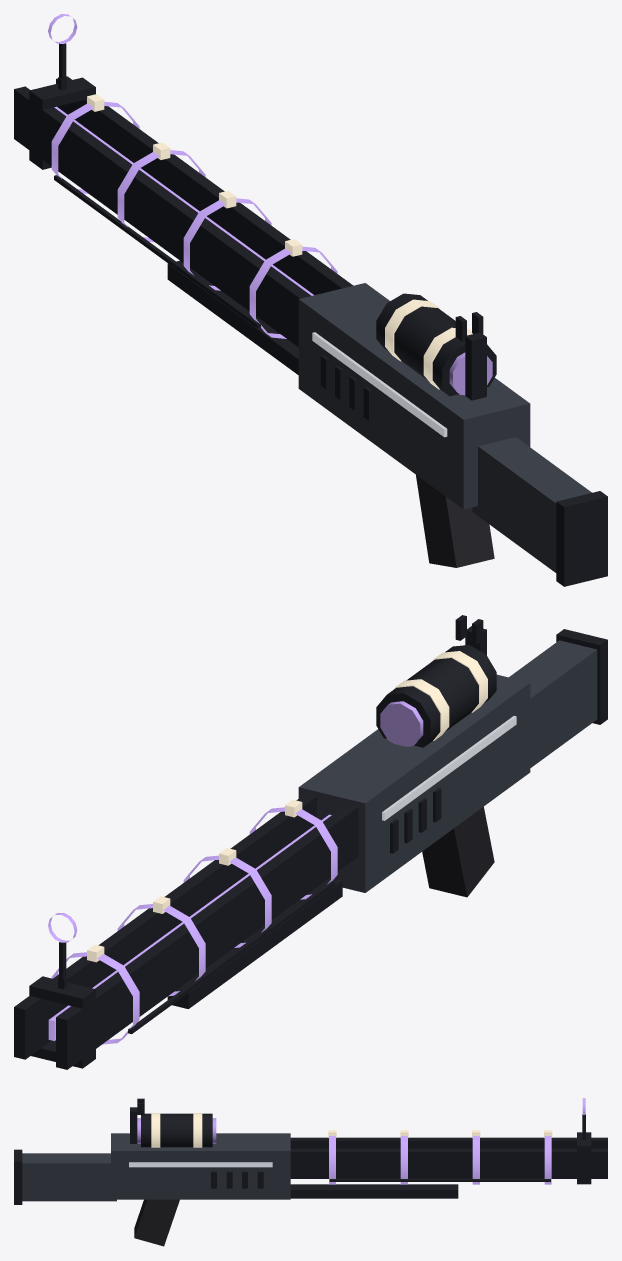
The model's file is BO_SK_Weapon_Railgun_v001.glb.
3 renders of one model, top to bottom at view 1: azimuth 30°, elevation 25°; view 2: azimuth 150°, elevation 25°; view 3: azimuth 270°, elevation 25°, orthographic. The views are drawn at different scales.
Parts seen in each view (by area): view 1: body_000, body_010, body_009, body_029, body_030, body_024, body_031, body_043, body_022, glowfx_042, body_035, body_012 (+6 smaller); view 2: body_000, body_010, body_009, body_029, body_024, body_031, body_043, body_022, body_028, glowfx_042, body_030, body_012 (+7 smaller); view 3: body_000, body_009, body_029, body_010, body_043, body_024, body_031, glowfx_041, body_023, body_030, glowfx_014, glowfx_016 (+6 smaller).
Boxes of the visible parts, x1,y1,x2,y2 form: body_000: [298, 283, 530, 509]; body_010: [14, 86, 311, 346]; body_009: [56, 76, 353, 295]; body_029: [472, 437, 591, 572]; body_030: [556, 491, 607, 586]; body_024: [376, 293, 496, 396]; body_031: [416, 475, 494, 567]; body_043: [167, 260, 298, 374]; body_022: [54, 175, 260, 328]; glowfx_042: [312, 332, 447, 437]; body_035: [465, 332, 486, 400]; body_012: [29, 77, 95, 109]; body_000: [298, 674, 530, 892]; body_010: [56, 804, 358, 1069]; body_009: [14, 794, 316, 1059]; body_029: [509, 640, 597, 767]; body_024: [376, 645, 496, 747]; body_031: [422, 806, 494, 897]; body_043: [167, 877, 342, 1008]; body_022: [128, 880, 335, 1033]; body_028: [380, 701, 423, 746]; glowfx_042: [382, 716, 516, 820]; body_030: [556, 629, 607, 724]; body_012: [29, 976, 95, 1008]; body_000: [111, 1133, 290, 1199]; body_009: [290, 1148, 607, 1178]; body_029: [22, 1153, 116, 1201]; body_010: [290, 1137, 607, 1148]; body_043: [290, 1184, 458, 1198]; body_024: [141, 1113, 212, 1147]; body_031: [134, 1199, 179, 1246]; glowfx_041: [129, 1162, 272, 1167]; body_023: [329, 1178, 550, 1181]; body_030: [14, 1149, 22, 1204]; glowfx_014: [544, 1136, 551, 1184]; glowfx_016: [472, 1136, 479, 1184].
Bounding box in the file's own units: 0.0856 × 0.2622 × 0.992.
